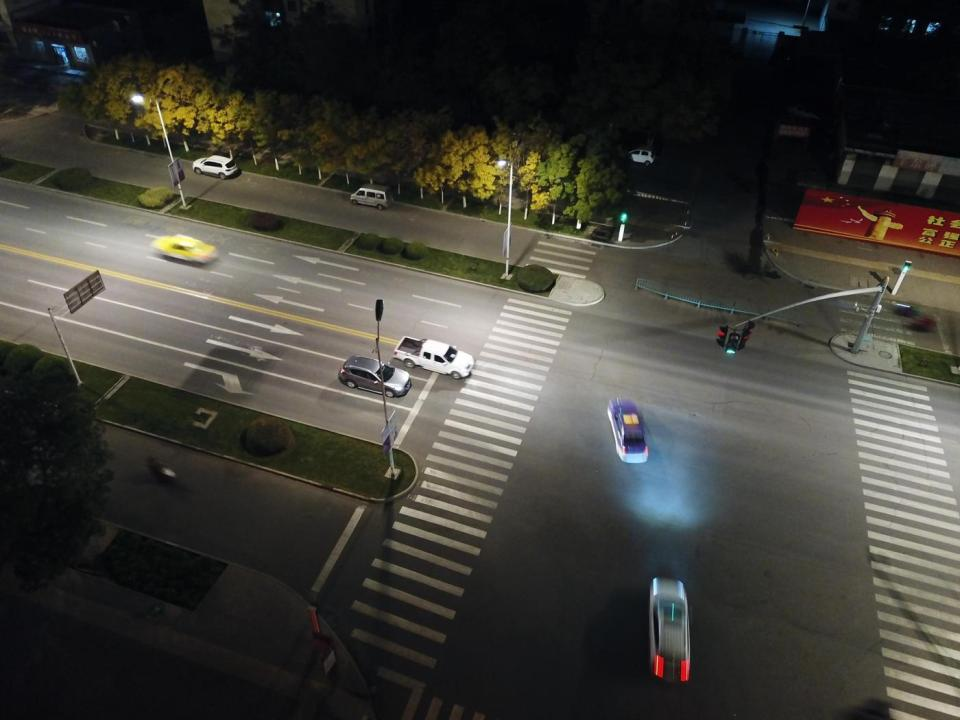car: (646, 576, 692, 680), (392, 336, 475, 378), (340, 356, 413, 398), (610, 398, 648, 464), (152, 230, 217, 263), (192, 152, 240, 182), (349, 185, 394, 213), (620, 146, 656, 165)
